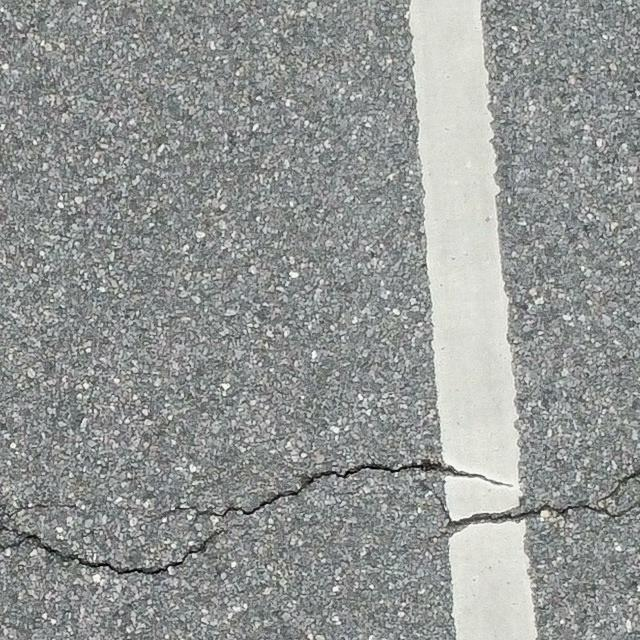TransverseCrack: (1, 455, 512, 578), (425, 471, 640, 547)
